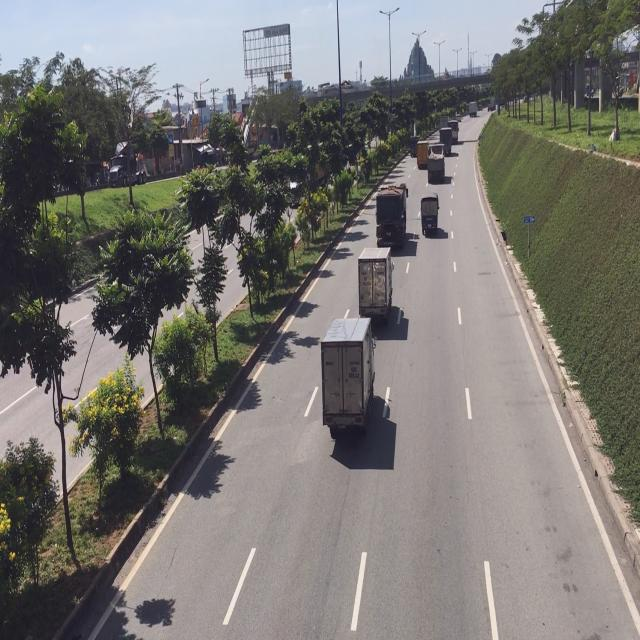truck: (321, 314, 376, 436), (358, 248, 394, 321), (375, 184, 407, 248), (425, 141, 446, 184), (420, 195, 439, 240)
